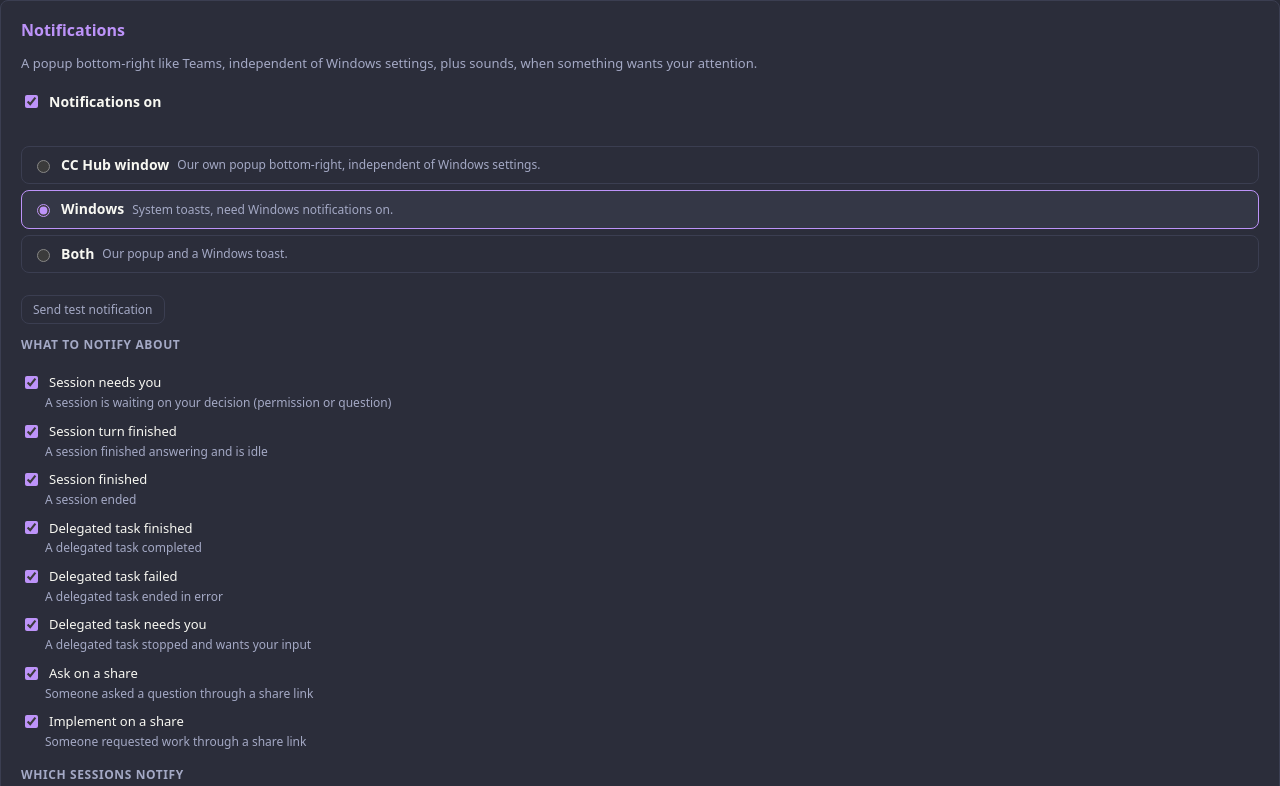
Scenario: a test that Windows will drop warns the user, using the fresh status
Step 1. Click the button "Send test notification" → (93, 309), box x1=21 y1=295 x2=164 y2=324
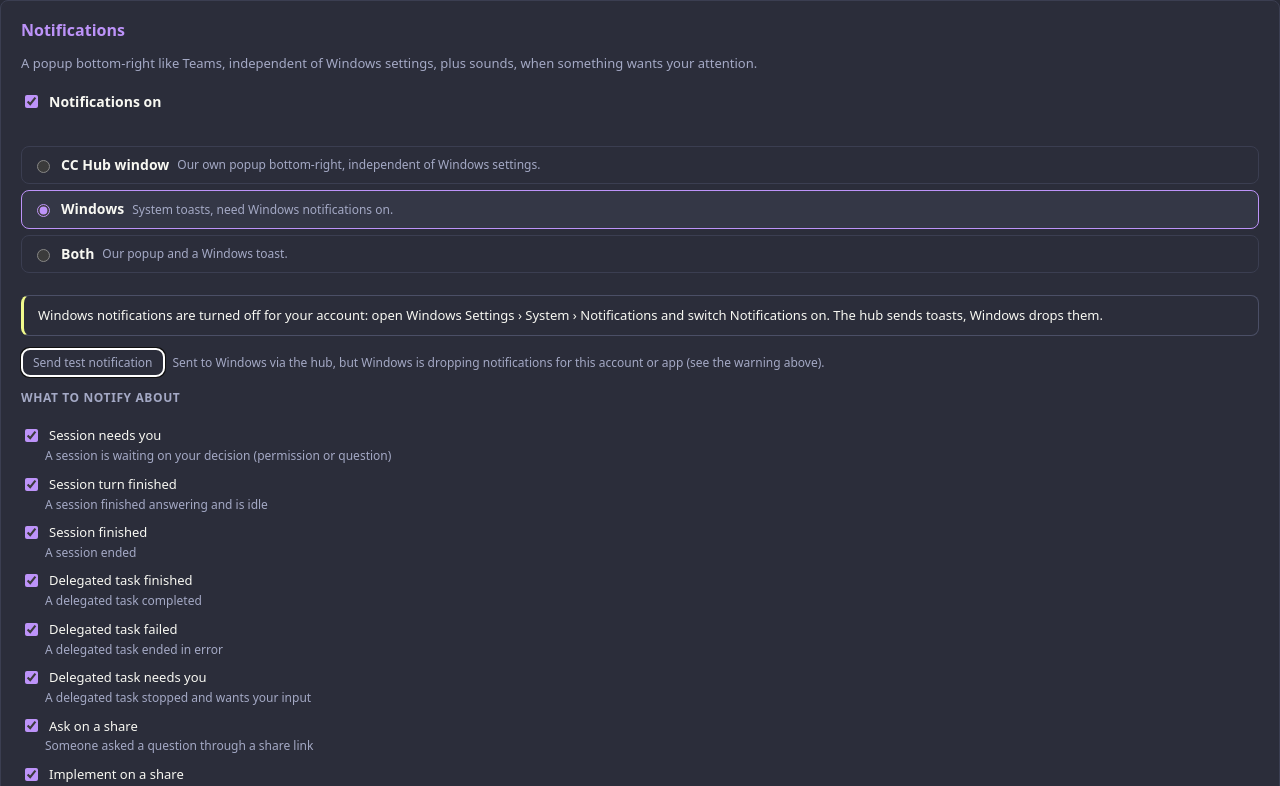
Result: the text "but Windows is dropping notifications for this account or app" is shown at x1=172 y1=354 x2=824 y2=370
Result: the text "Windows notifications are turned off for your account" is shown at x1=38 y1=306 x2=1103 y2=324
